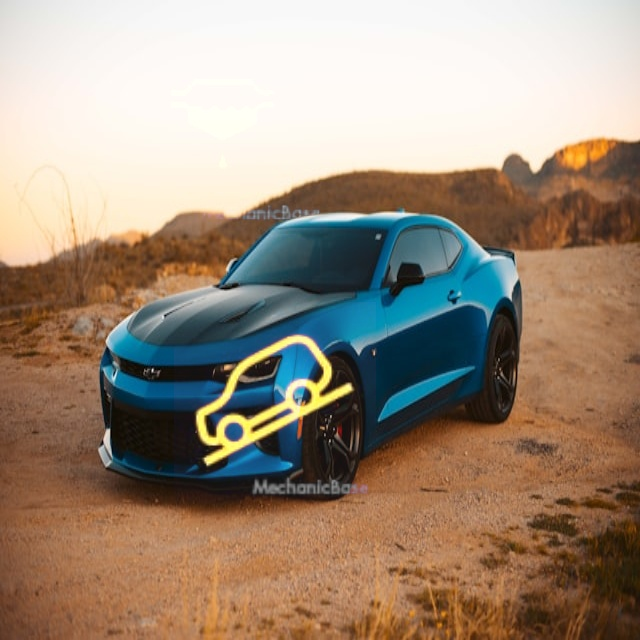symbol: (120, 22, 328, 230), (174, 302, 376, 504), (16, 139, 153, 276)
